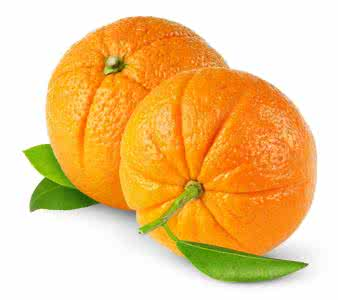orange: (39, 15, 233, 206), (123, 70, 315, 260)
